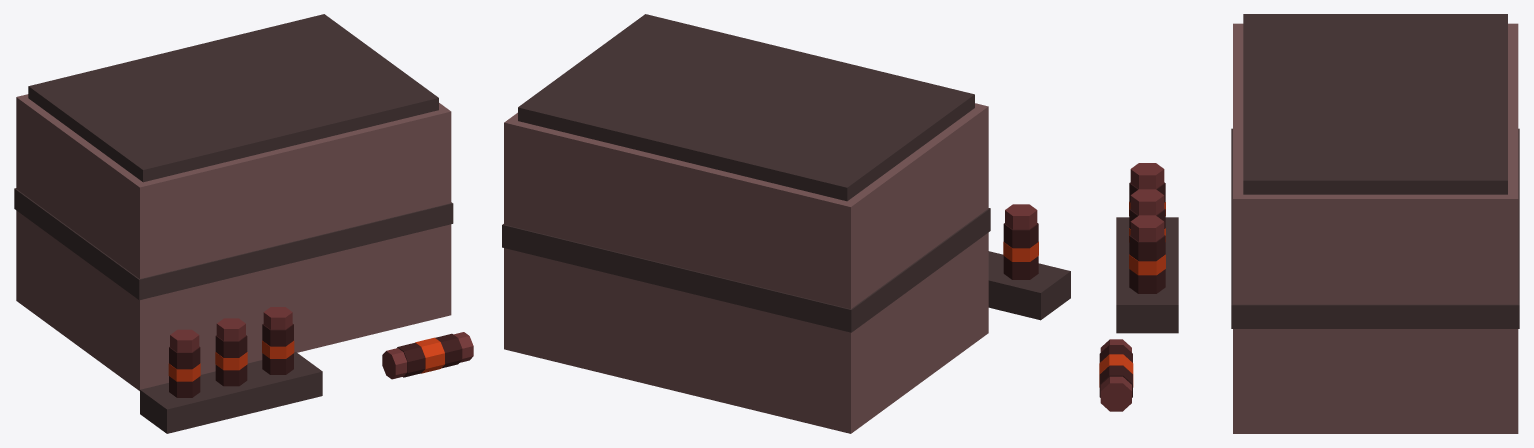
Rendered from ce_ammo2_fuel30_inc_c.obj.
The picture shows the model from 3 angles, left to right: view 1: azimuth 30°, elevation 25°; view 2: azimuth 150°, elevation 25°; view 3: azimuth 270°, elevation 25°; orthographic projection. The views are drawn at different scales.
Parts seen in each view (by area): view 1: ce_ammo2_fuel30_inc_c_0, ce_ammo2_fuel30_inc_c_1, ce_ammo2_fuel30_inc_c_2, ce_ammo2_fuel30_inc_c_3, ce_ammo2_fuel30_inc_c_18, ce_ammo2_fuel30_inc_c_16, ce_ammo2_fuel30_inc_c_7, ce_ammo2_fuel30_inc_c_11, ce_ammo2_fuel30_inc_c_17, ce_ammo2_fuel30_inc_c_15, ce_ammo2_fuel30_inc_c_19, ce_ammo2_fuel30_inc_c_6 (+5 smaller); view 2: ce_ammo2_fuel30_inc_c_0, ce_ammo2_fuel30_inc_c_1, ce_ammo2_fuel30_inc_c_2, ce_ammo2_fuel30_inc_c_3, ce_ammo2_fuel30_inc_c_7, ce_ammo2_fuel30_inc_c_6, ce_ammo2_fuel30_inc_c_4; view 3: ce_ammo2_fuel30_inc_c_0, ce_ammo2_fuel30_inc_c_1, ce_ammo2_fuel30_inc_c_2, ce_ammo2_fuel30_inc_c_3, ce_ammo2_fuel30_inc_c_20, ce_ammo2_fuel30_inc_c_11, ce_ammo2_fuel30_inc_c_7, ce_ammo2_fuel30_inc_c_15, ce_ammo2_fuel30_inc_c_14, ce_ammo2_fuel30_inc_c_12, ce_ammo2_fuel30_inc_c_13, ce_ammo2_fuel30_inc_c_18 (+1 smaller).
Part boxes in pixels (x1,y1,x2,y2): ce_ammo2_fuel30_inc_c_0: (16,94,451,390); ce_ammo2_fuel30_inc_c_1: (28,14,438,182); ce_ammo2_fuel30_inc_c_2: (14,188,453,300); ce_ammo2_fuel30_inc_c_3: (140,352,322,433); ce_ammo2_fuel30_inc_c_18: (415,337,444,373); ce_ammo2_fuel30_inc_c_16: (382,348,407,379); ce_ammo2_fuel30_inc_c_7: (170,329,199,352); ce_ammo2_fuel30_inc_c_11: (216,318,245,341); ce_ammo2_fuel30_inc_c_17: (397,343,425,377); ce_ammo2_fuel30_inc_c_15: (263,307,292,329); ce_ammo2_fuel30_inc_c_19: (435,333,462,368); ce_ammo2_fuel30_inc_c_6: (169,346,200,369); ce_ammo2_fuel30_inc_c_0: (504,103,988,433); ce_ammo2_fuel30_inc_c_1: (518,14,974,201); ce_ammo2_fuel30_inc_c_2: (502,208,990,332); ce_ammo2_fuel30_inc_c_3: (988,251,1070,320); ce_ammo2_fuel30_inc_c_7: (1005,204,1037,229); ce_ammo2_fuel30_inc_c_6: (1003,223,1038,248); ce_ammo2_fuel30_inc_c_4: (1003,256,1038,279); ce_ammo2_fuel30_inc_c_0: (1233,23,1518,433); ce_ammo2_fuel30_inc_c_1: (1243,14,1507,194); ce_ammo2_fuel30_inc_c_2: (1231,128,1519,328); ce_ammo2_fuel30_inc_c_3: (1116,217,1178,333); ce_ammo2_fuel30_inc_c_20: (1100,376,1131,411); ce_ammo2_fuel30_inc_c_11: (1130,189,1164,215); ce_ammo2_fuel30_inc_c_7: (1130,163,1164,189); ce_ammo2_fuel30_inc_c_15: (1130,215,1164,241); ce_ammo2_fuel30_inc_c_14: (1129,235,1165,261); ce_ammo2_fuel30_inc_c_12: (1129,269,1165,293); ce_ammo2_fuel30_inc_c_13: (1129,254,1165,275); ce_ammo2_fuel30_inc_c_18: (1099,354,1133,387).
Size of the model in its own units: 0.863 by 0.53 by 0.811.
